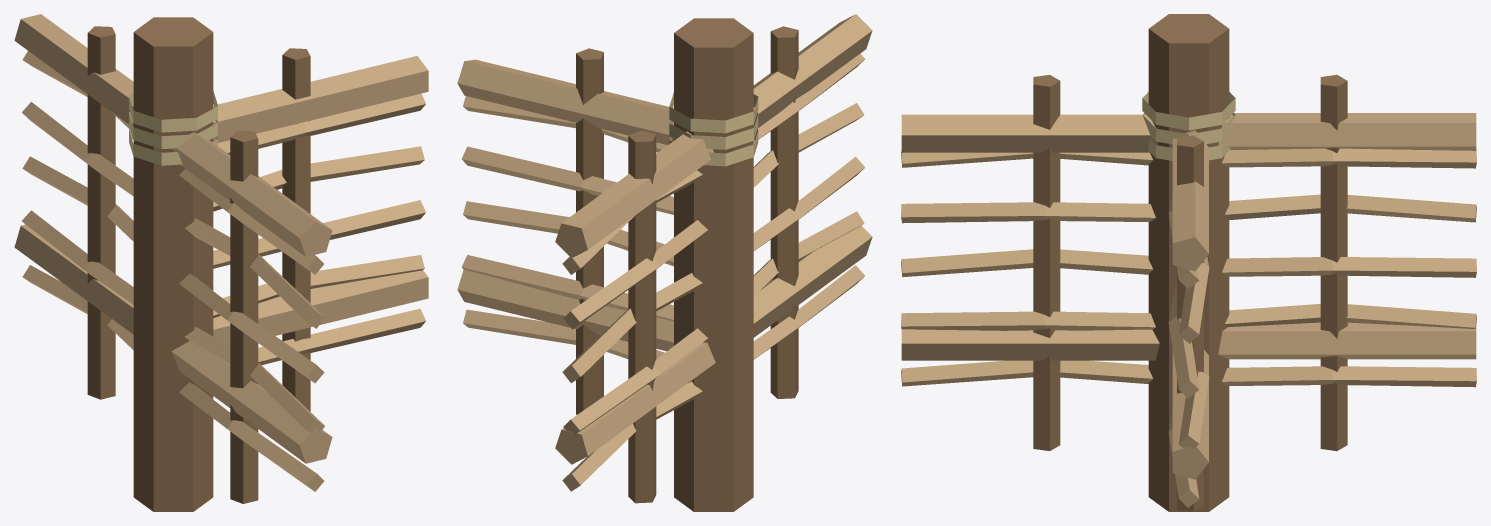
File: pen_fence_07.glb
The picture shows the model from 3 angles, left to right: view 1: azimuth 30°, elevation 25°; view 2: azimuth 150°, elevation 25°; view 3: azimuth 270°, elevation 25°; orthographic projection.
Visible parts, largest first — view 1: pen_fence_07; view 2: pen_fence_07; view 3: pen_fence_07.
Boxes of the visible parts, bbox=[...] form: pen_fence_07: bbox=[14, 14, 428, 511]; pen_fence_07: bbox=[457, 14, 872, 511]; pen_fence_07: bbox=[901, 14, 1476, 511].
Bounding box in the file's own units: 0.5823 × 0.9 × 1.
